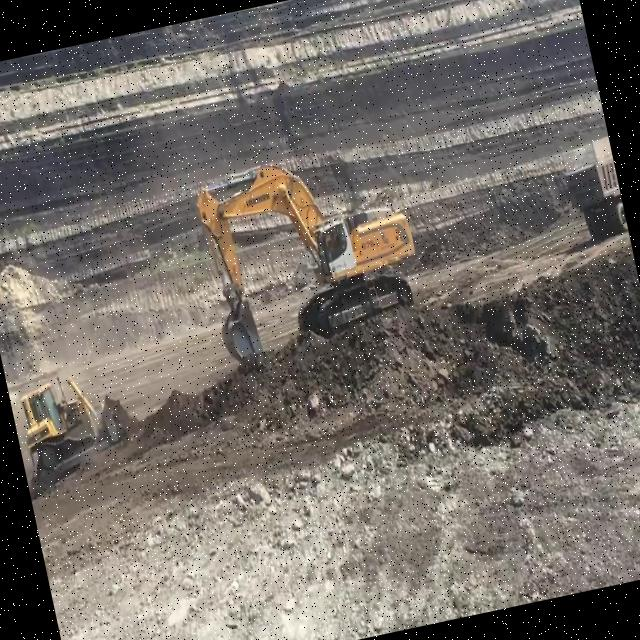Dump Truck: (554, 130, 628, 240)
Excavator: (186, 134, 432, 368)
Loader: (9, 360, 128, 490)
